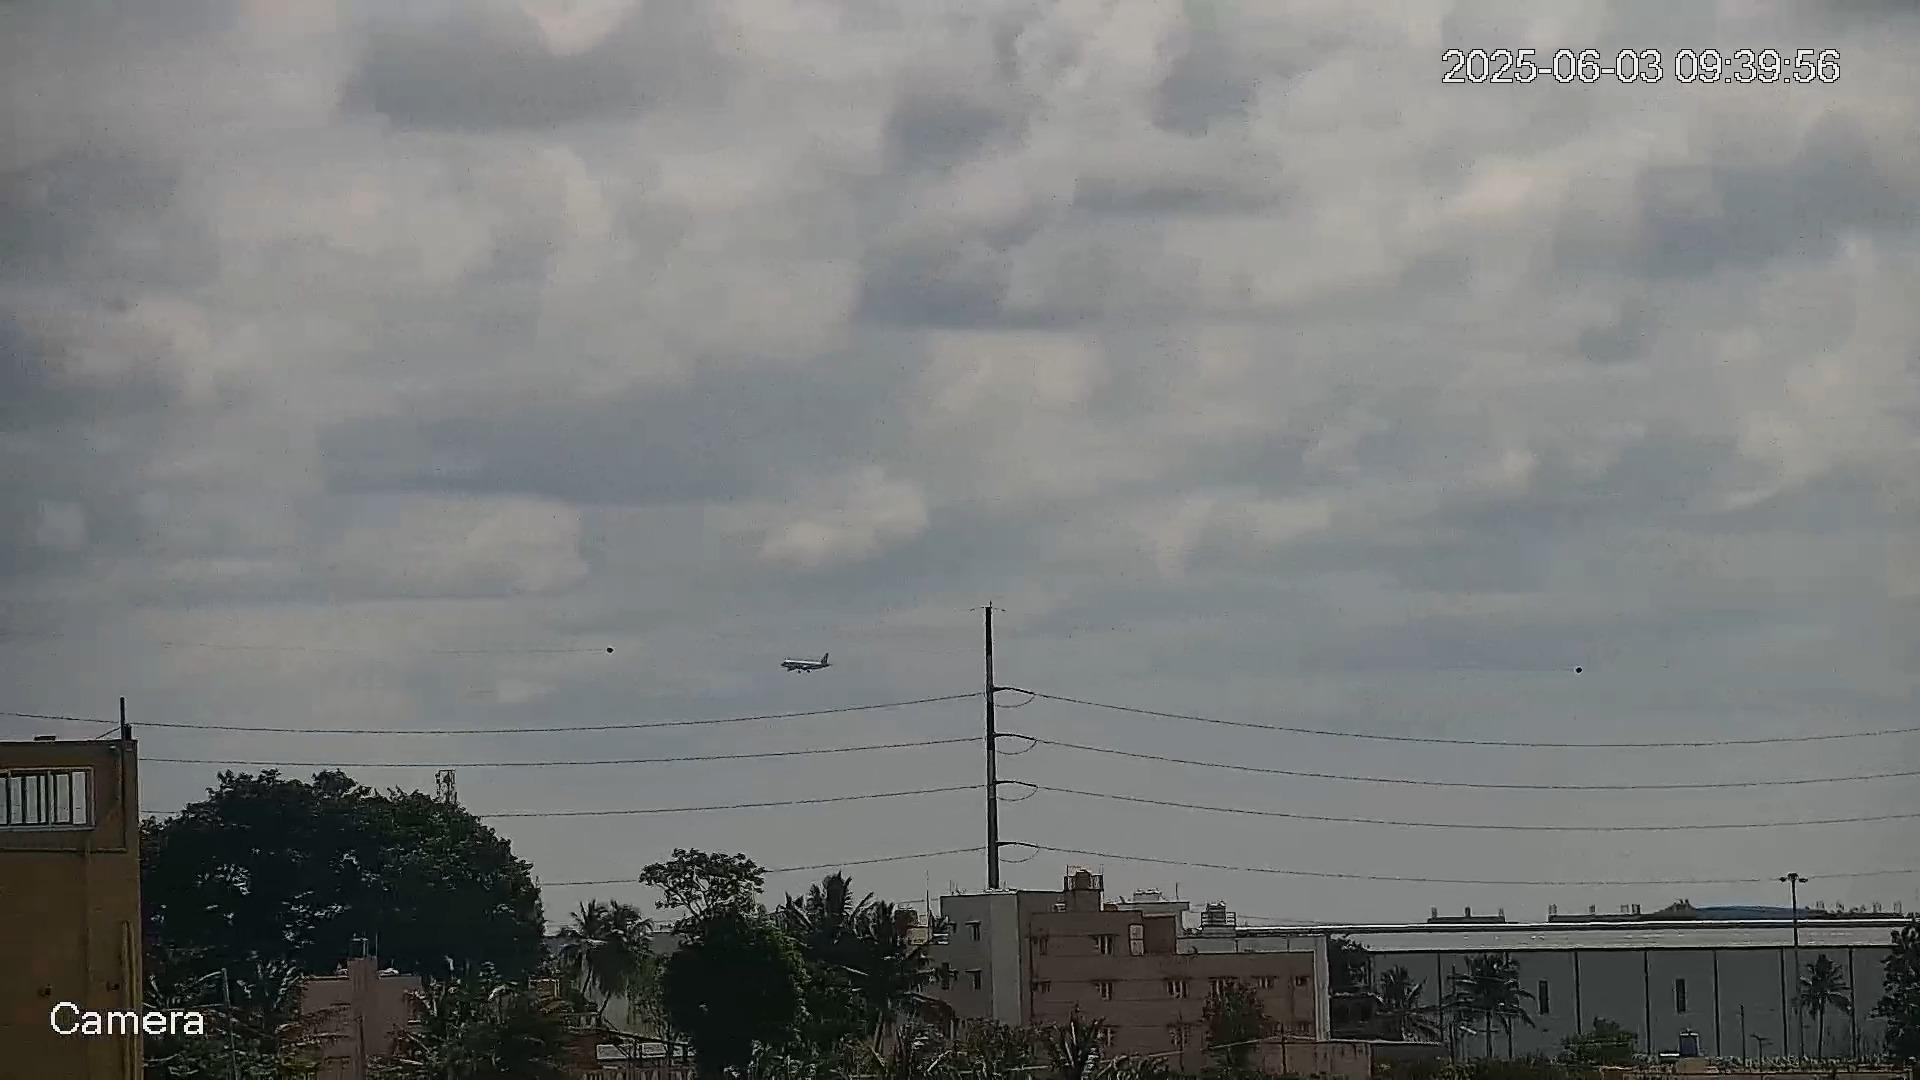Aircraft: (779, 647, 836, 675)
